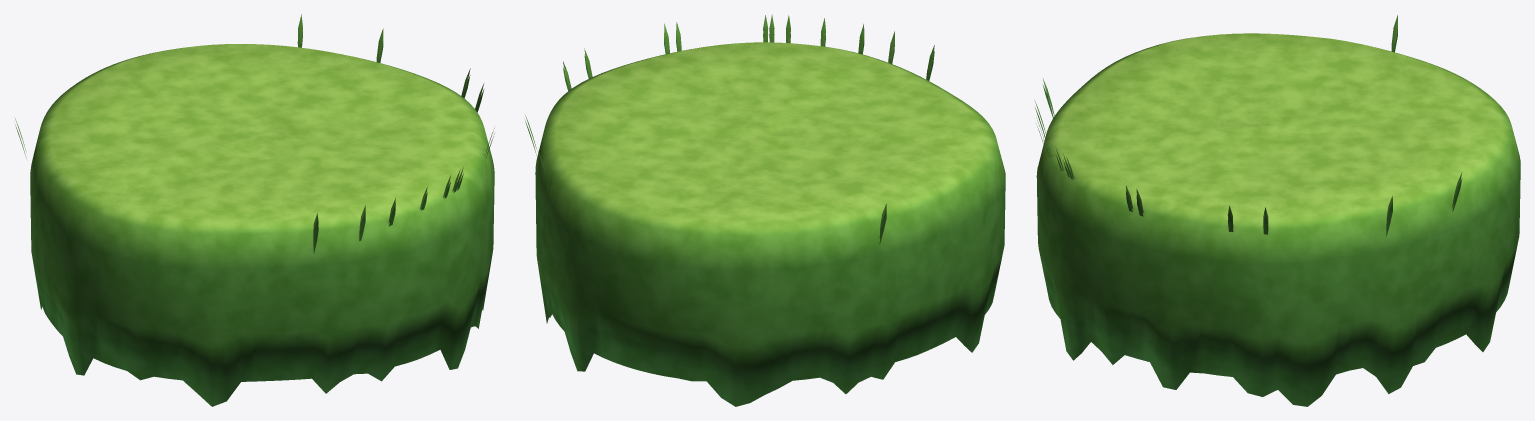
File: Env_GrassCap_2.glb
3 views of the same model, side by side, from view 1: azimuth 30°, elevation 25°; view 2: azimuth 150°, elevation 25°; view 3: azimuth 270°, elevation 25° (orthographic).
Visible parts, largest first — view 1: Env_GrassCap_2.001; view 2: Env_GrassCap_2.001; view 3: Env_GrassCap_2.001.
Boxes of the visible parts, bbox=[...] form: Env_GrassCap_2.001: bbox=[15, 14, 494, 406]; Env_GrassCap_2.001: bbox=[525, 14, 1005, 406]; Env_GrassCap_2.001: bbox=[1034, 15, 1520, 406].
Bounding box in the file's own units: 1.98 × 0.9496 × 2.
1 material, 1 textured.
